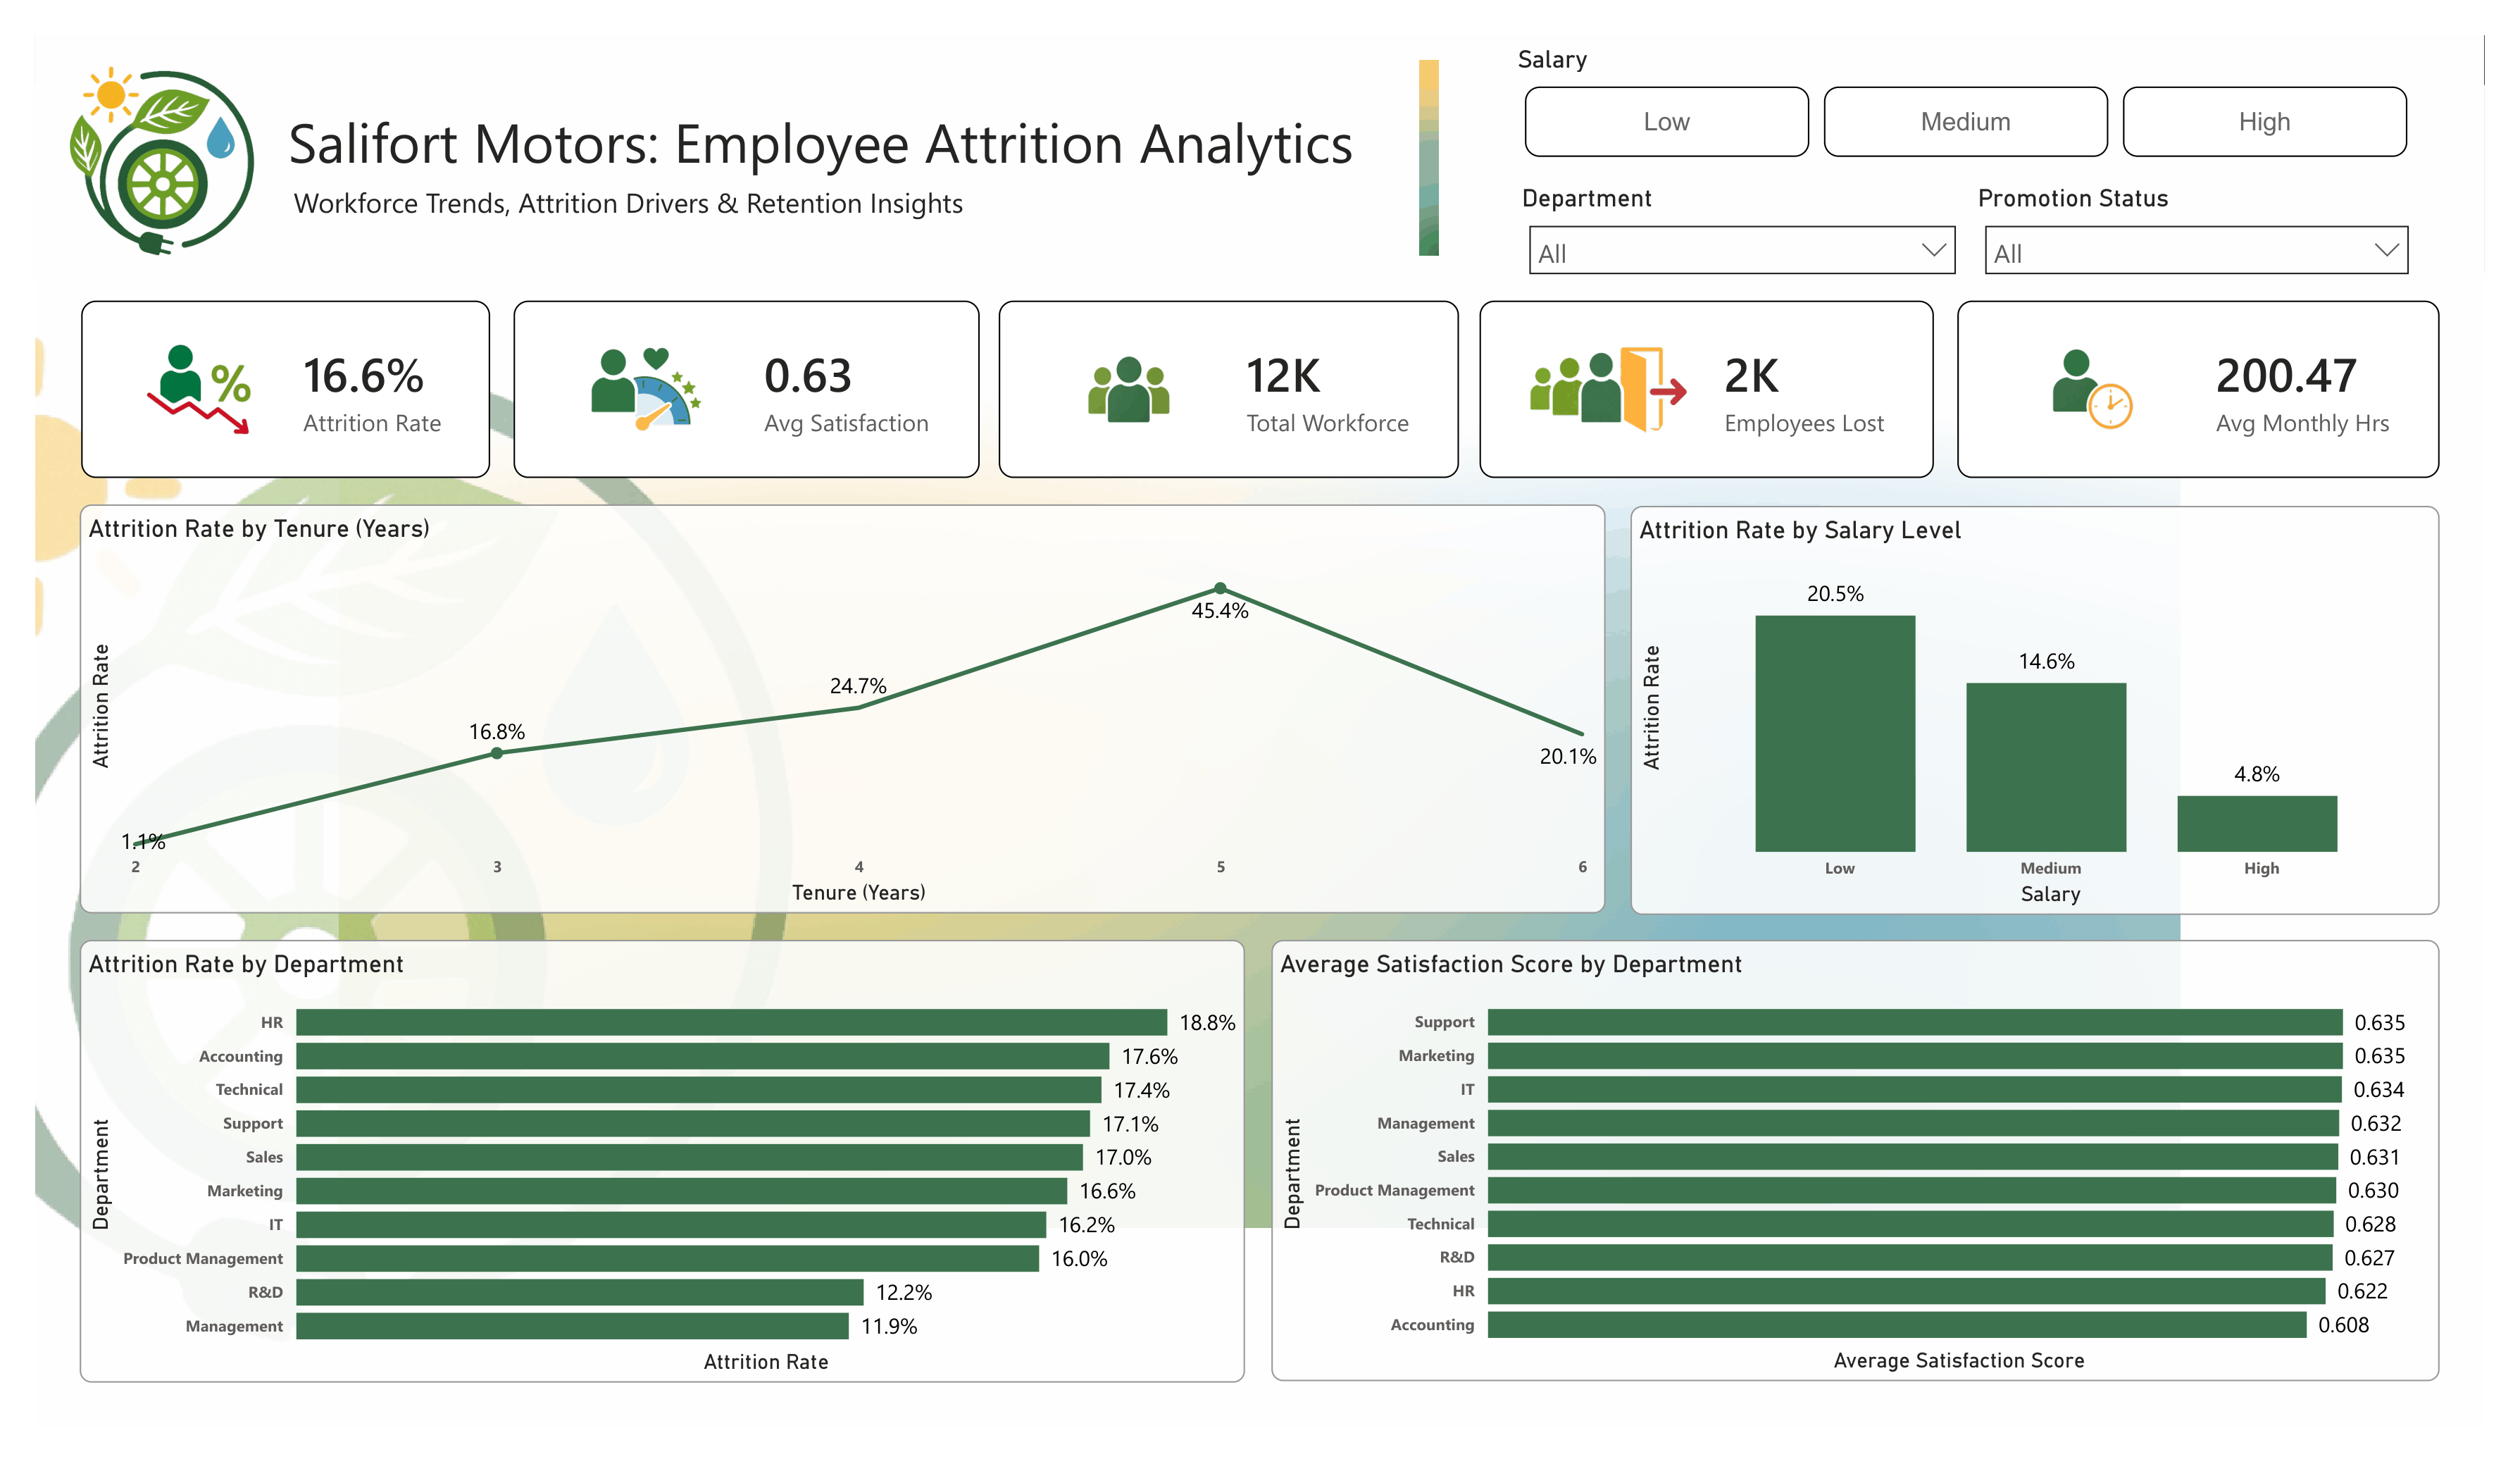

The dashboard page shown, as its layout file describes it:
{"tool":"powerbi","page":{"name":"Executive Overview","canvas":[1670,950],"ordinal":0},"visuals":[{"type":"textbox","box":[167,42.2,759.8,78.8],"z":0},{"type":"textbox","box":[170.8,95.8,480.8,35],"z":1000},{"type":"image","box":[13.1,17.2,145.3,138.1],"z":2000},{"type":"cardVisual","fields":{"Data":["Employee Attrition Data.Total Employees"]},"box":[656.7,180.9,314.4,121],"z":3000},{"type":"cardVisual","fields":{"Data":["Employee Attrition Data.Employees Left"]},"box":[985.1,180.9,310.3,121],"z":4000},{"type":"cardVisual","fields":{"Data":["Employee Attrition Data.Average Monthly Hours"]},"box":[1310.6,180.9,329.7,121],"z":5000},{"type":"clusteredColumnChart","title":"Attrition Rate by Salary Level","fields":{"Category":["Employee Attrition Data.Salary"],"Y":["Employee Attrition Data.Attrition Rate %"]},"box":[1088.1,320.6,551.9,279.4],"z":6000},{"type":"clusteredBarChart","title":"Average Satisfaction Score by Department","fields":{"Category":["Employee Attrition Data.Department"],"Y":["Avg(Employee Attrition Data.Satisfaction Level)"]},"box":[843.2,616.8,797.2,301.7],"z":7000},{"type":"slicer","title":"Department","fields":{"Values":["Employee Attrition Data.Department"]},"box":[1008.8,100.7,311.4,73.6],"z":8000},{"type":"image","box":[943.6,16.7,13.7,133.5],"z":9000},{"type":"ChicletSlicer1448559807354","title":"Salary","fields":{"Category":["Employee Attrition Data.Salary"]},"box":[1005.9,6.4,623.6,94.3],"z":10000},{"type":"slicer","title":"Promotion Status","fields":{"Values":["Employee Attrition Data.Promotion Status"]},"box":[1320.2,100.7,309.3,73],"z":11000},{"type":"image","box":[0,180.7,545,737.1],"z":12000},{"type":"clusteredBarChart","title":"Attrition Rate by Department","fields":{"Category":["Employee Attrition Data.Department"],"Y":["Employee Attrition Data.Attrition Rate %"]},"box":[30.3,617.5,795,301.9],"z":13000},{"type":"lineChart","title":"Attrition Rate by Tenure (Years)","fields":{"Category":["Employee Attrition Data.Tenure"],"Y":["Employee Attrition Data.Attrition Rate %"]},"box":[30.3,320.1,1040.7,279.1],"z":14000},{"type":"cardVisual","fields":{"Data":["Employee Attrition Data.Attrition Rate %"]},"box":[30.6,180.6,279,121.2],"z":15000},{"type":"cardVisual","fields":{"Data":["Employee Attrition Data.Average Satisfaction"]},"box":[325.6,180.9,318.6,121],"z":16000}]}

Visuals, with their boxes on the page's 1670x950 design canvas (x1, y1, x2, y2). These are canvas units, not pixel positions in the 2520x1464 screenshot, which may show the page scaled, cropped or inside an application window:
textbox: x1=167 y1=42 x2=927 y2=121
textbox: x1=171 y1=96 x2=652 y2=131
image: x1=13 y1=17 x2=158 y2=155
cardVisual - Employee Attrition Data.Total Employees: x1=657 y1=181 x2=971 y2=302
cardVisual - Employee Attrition Data.Employees Left: x1=985 y1=181 x2=1295 y2=302
cardVisual - Employee Attrition Data.Average Monthly Hours: x1=1311 y1=181 x2=1640 y2=302
"Attrition Rate by Salary Level" clusteredColumnChart: x1=1088 y1=321 x2=1640 y2=600
"Average Satisfaction Score by Department" clusteredBarChart: x1=843 y1=617 x2=1640 y2=918
"Department" slicer: x1=1009 y1=101 x2=1320 y2=174
image: x1=944 y1=17 x2=957 y2=150
"Salary" ChicletSlicer1448559807354: x1=1006 y1=6 x2=1630 y2=101
"Promotion Status" slicer: x1=1320 y1=101 x2=1630 y2=174
image: x1=0 y1=181 x2=545 y2=918
"Attrition Rate by Department" clusteredBarChart: x1=30 y1=618 x2=825 y2=919
"Attrition Rate by Tenure (Years)" lineChart: x1=30 y1=320 x2=1071 y2=599
cardVisual - Employee Attrition Data.Attrition Rate %: x1=31 y1=181 x2=310 y2=302
cardVisual - Employee Attrition Data.Average Satisfaction: x1=326 y1=181 x2=644 y2=302
